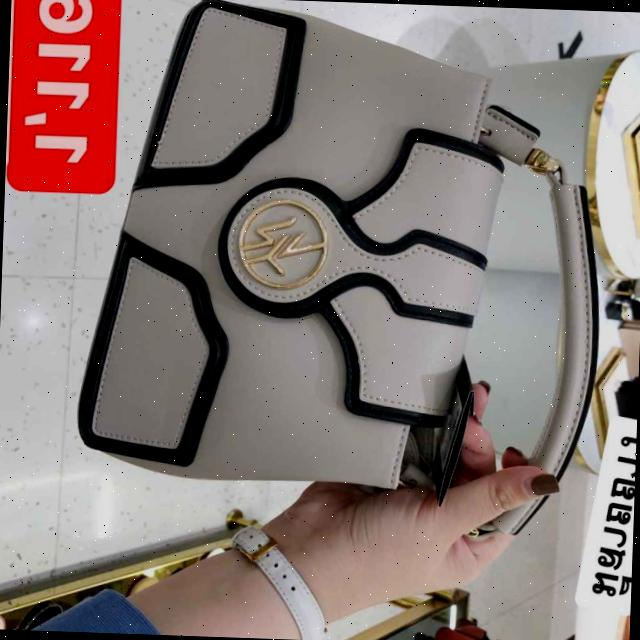Handbag: (52, 0, 545, 489)
